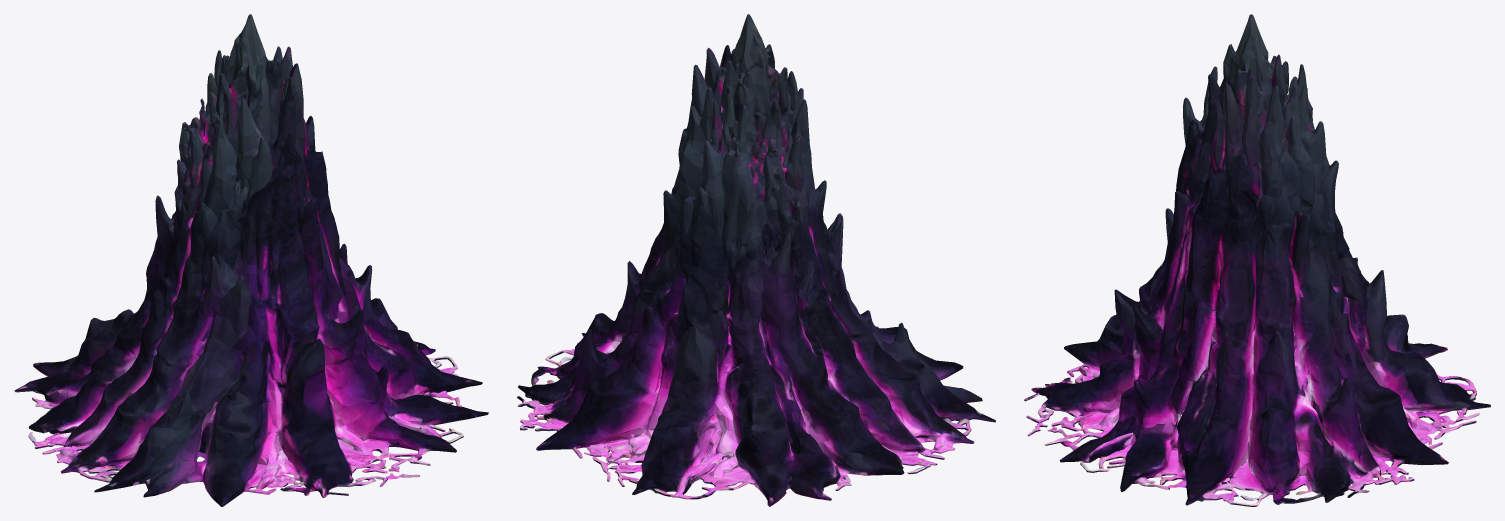
The model's file is root-mound-generated-2026-04-19T16-18-52-077Z.medium.glb.
3 views of the same model, side by side, from view 1: azimuth 30°, elevation 25°; view 2: azimuth 150°, elevation 25°; view 3: azimuth 270°, elevation 25° (orthographic).
Parts seen in each view (by area): view 1: temp_mesh.ply; view 2: temp_mesh.ply; view 3: temp_mesh.ply.
Part boxes in pixels (bbox=[...]): temp_mesh.ply: bbox=[14, 14, 488, 506]; temp_mesh.ply: bbox=[517, 14, 995, 506]; temp_mesh.ply: bbox=[1024, 14, 1490, 506].
Bounding box in the file's own units: 1.97 × 1.82 × 1.94.
1 material, 1 textured.
